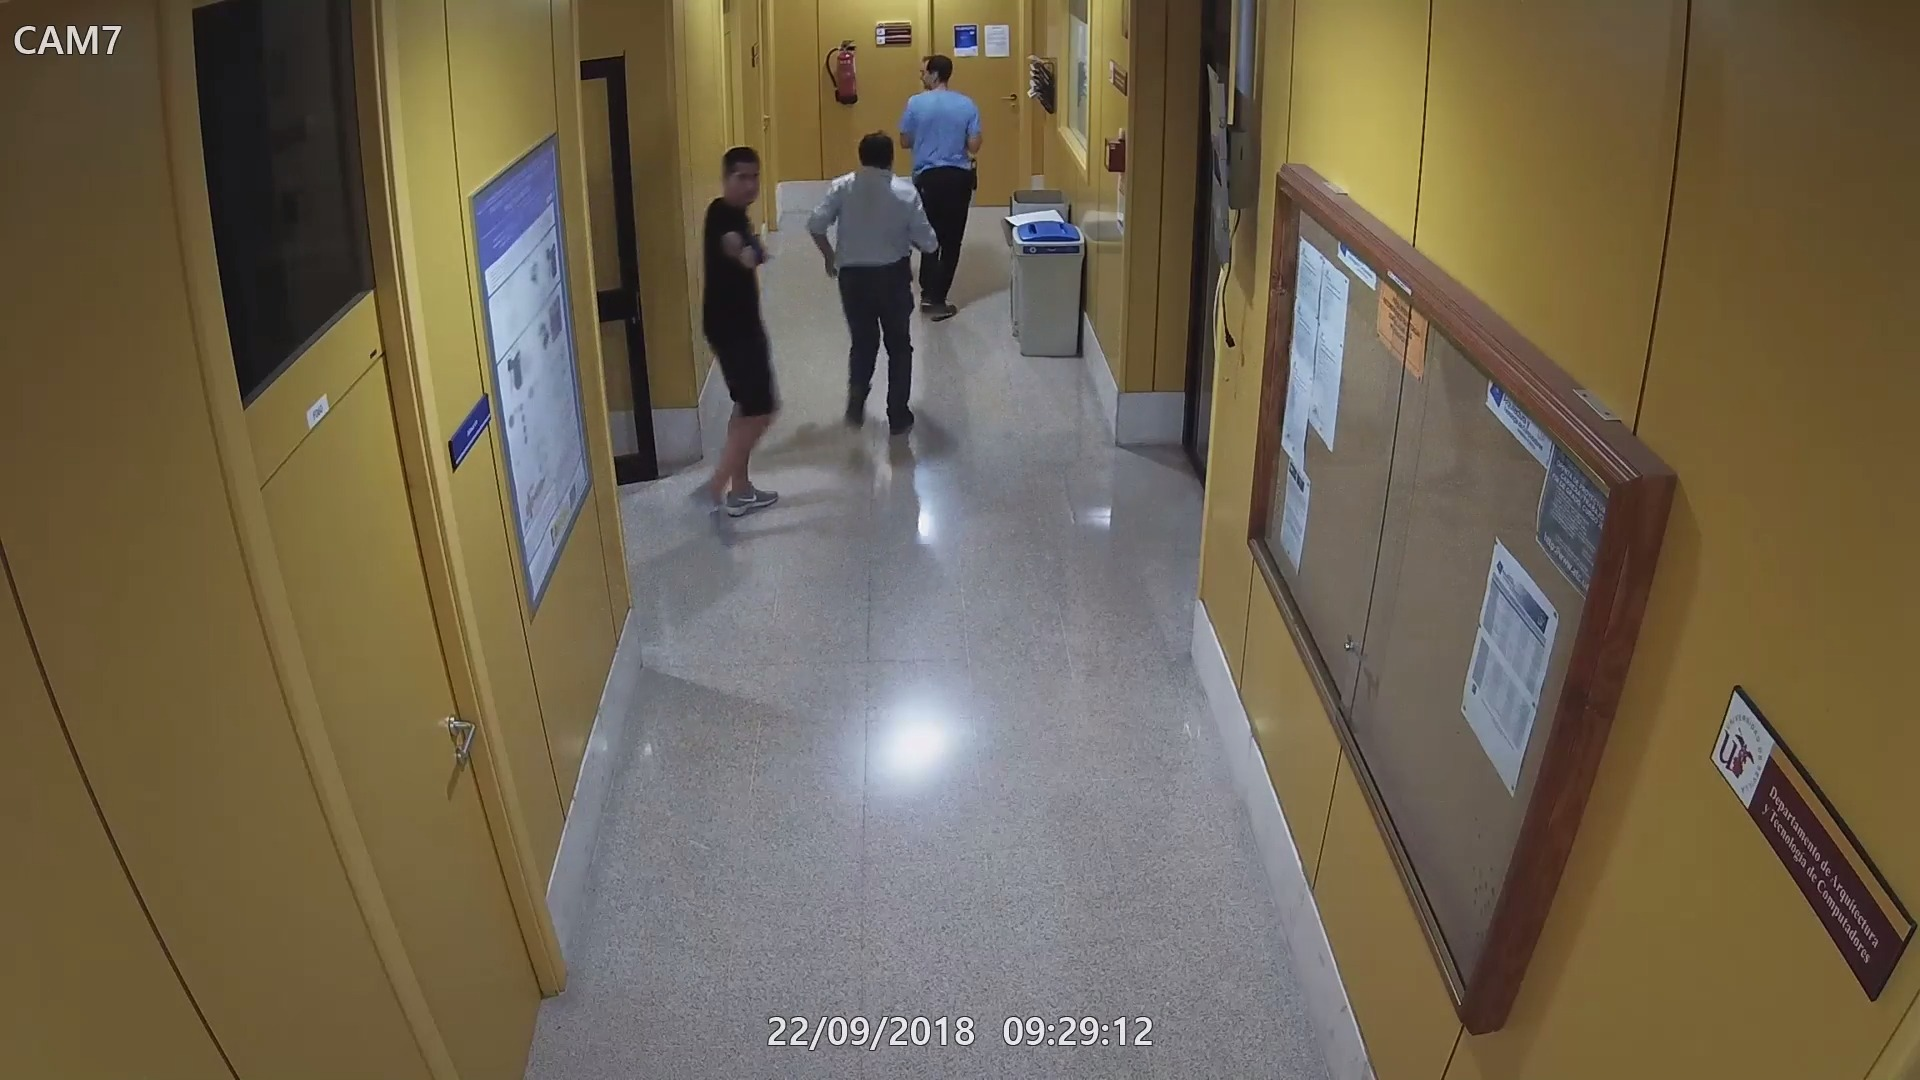Handgun: (742, 233, 769, 269)
